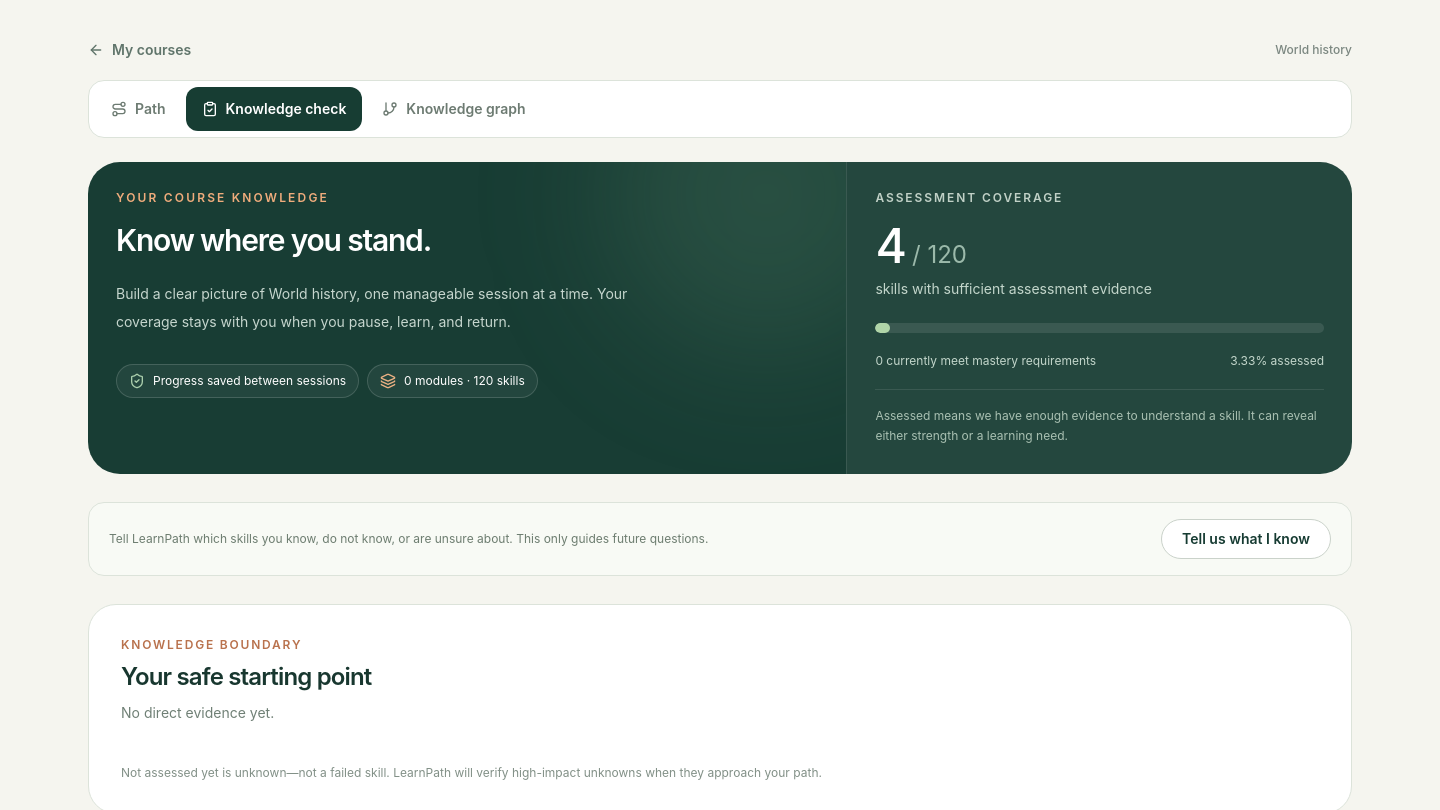
Test: course-wide knowledge check flow › lets an existing learner voluntarily update starting knowledge without interrupting their course
expect the heading "Know where you stand." is shown: met, box 116,222 -> 431,258
Click the button "Tell us what I know". click: (1246,539)
box: 1161,519 -> 1331,559
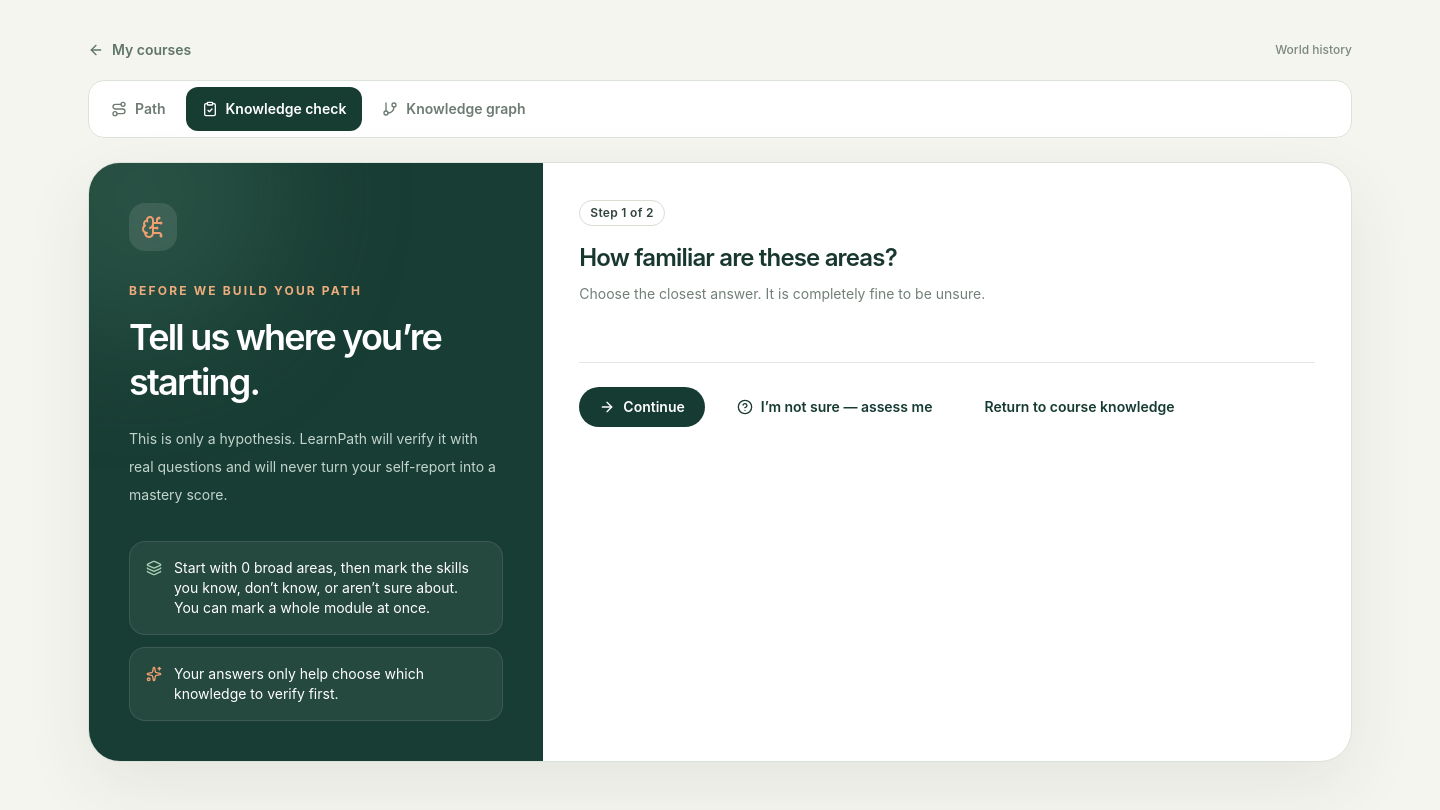
expect the heading "Tell us where you’re starting." is shown: met, box 129,315 -> 441,404
Click the button "Return to course knowledge". click: (1079,407)
box: 964,387 -> 1194,427
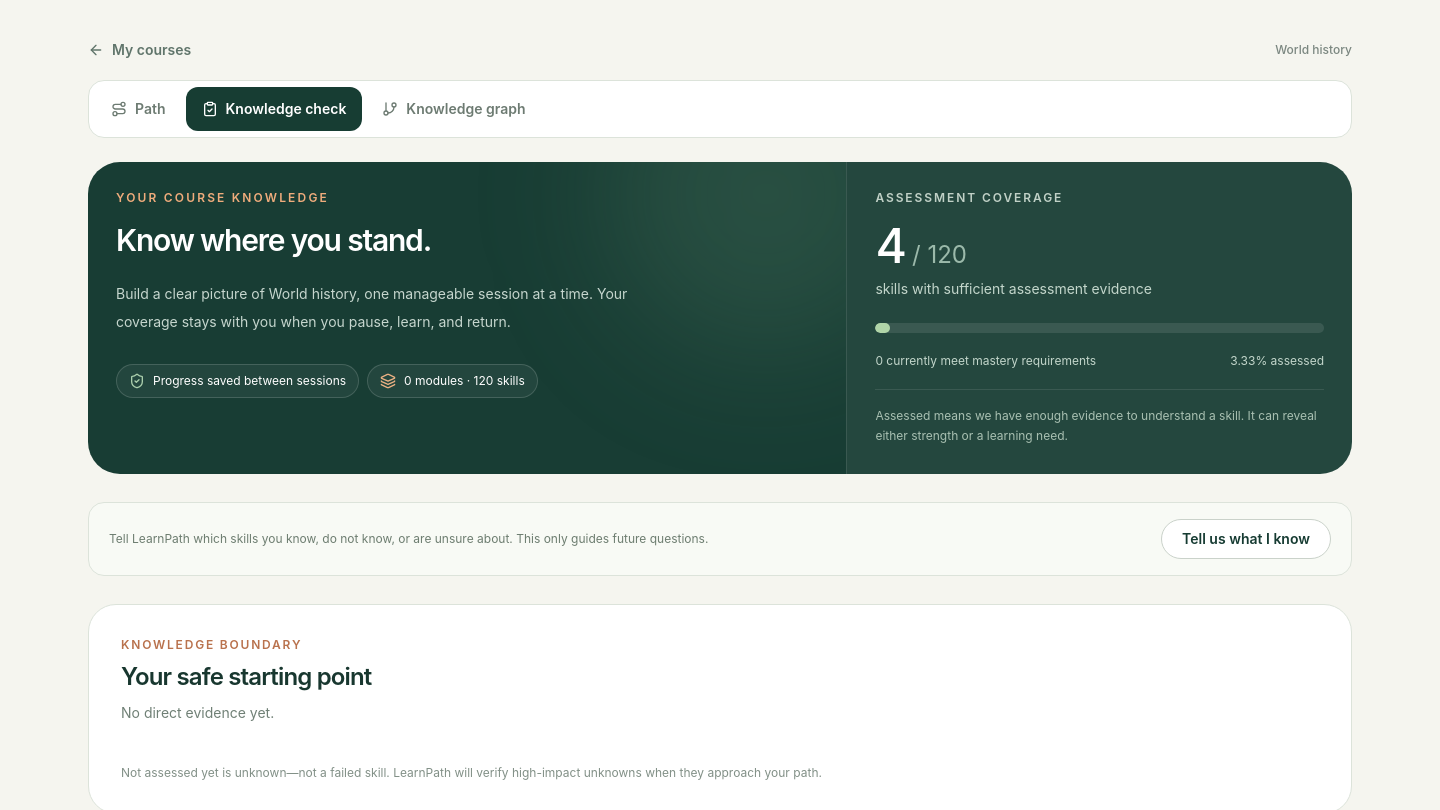
expect the heading "Know where you stand." is shown: met, box 116,222 -> 431,258
